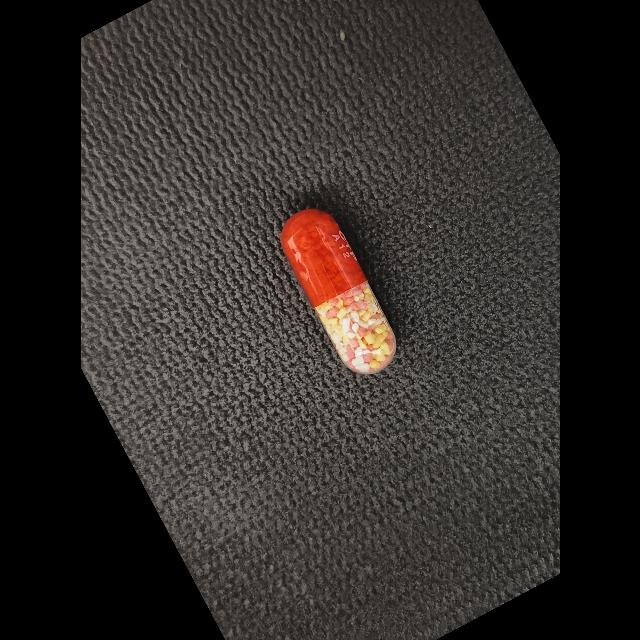Intact Capsule: (280, 209, 396, 374)
